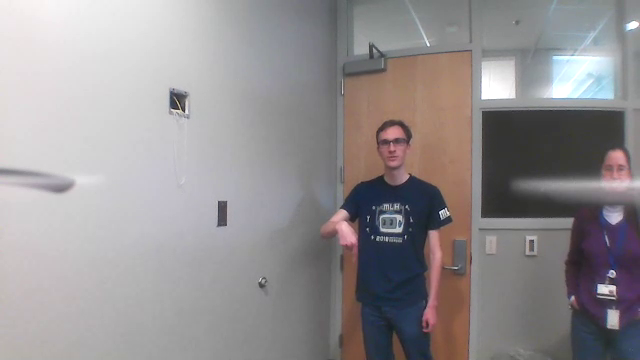down: (333, 216, 361, 266)
